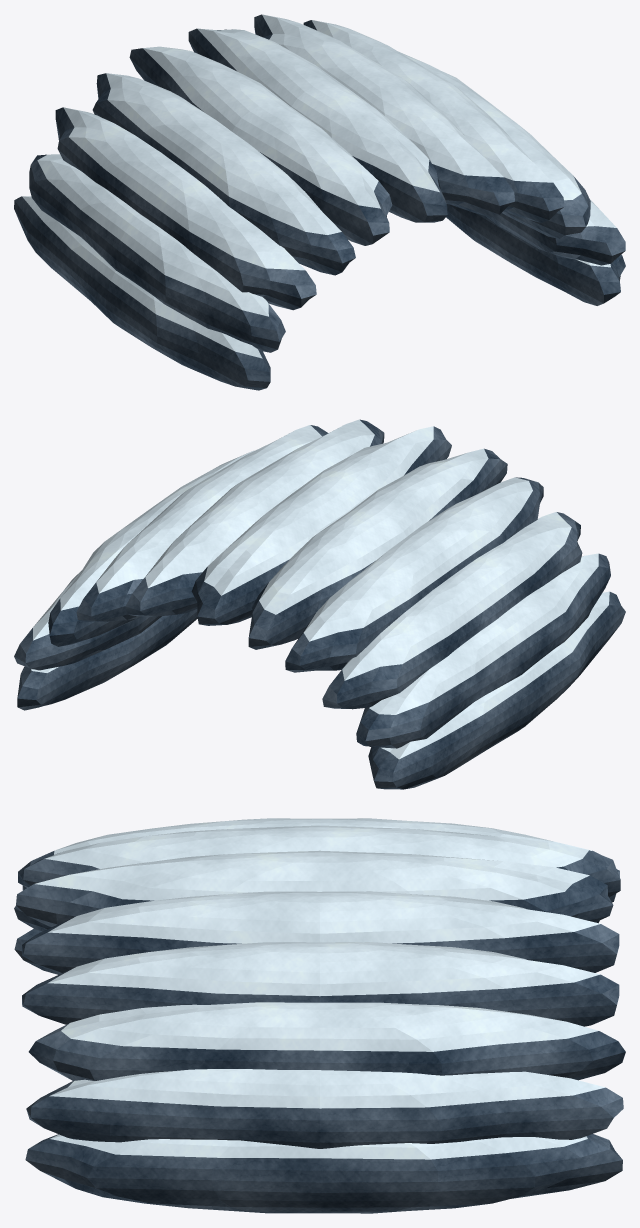
File: ThirdRoom_RockArch.fbx
3 renders of one model, top to bottom at view 1: azimuth 30°, elevation 25°; view 2: azimuth 150°, elevation 25°; view 3: azimuth 270°, elevation 25°, orthographic. The views are drawn at different scales.
Visible parts, largest first — view 1: WO_ThirdRoom_RockArch_LOD0; view 2: WO_ThirdRoom_RockArch_LOD0; view 3: WO_ThirdRoom_RockArch_LOD0.
Boxes of the visible parts, <box> form: WO_ThirdRoom_RockArch_LOD0: <box>14,14,625,390</box>; WO_ThirdRoom_RockArch_LOD0: <box>14,419,625,789</box>; WO_ThirdRoom_RockArch_LOD0: <box>14,818,625,1213</box>.
Size of what is drawn, in the model's own units: 5.95 by 2.67 by 6.
